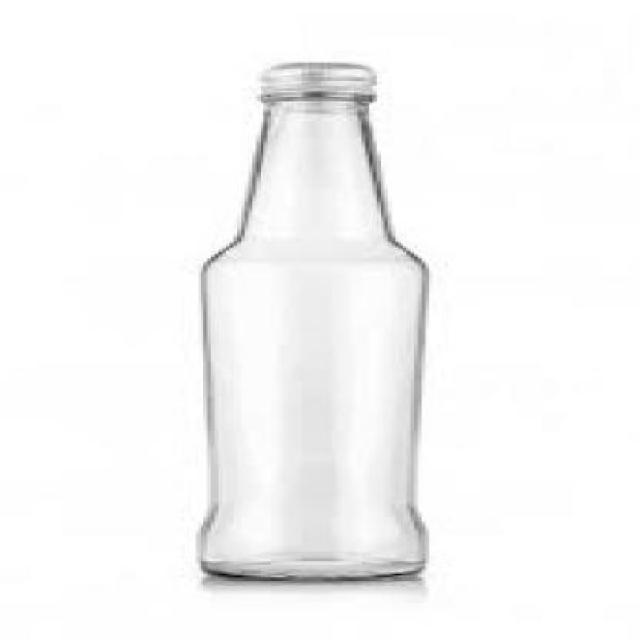kaca: (196, 91, 427, 577)
